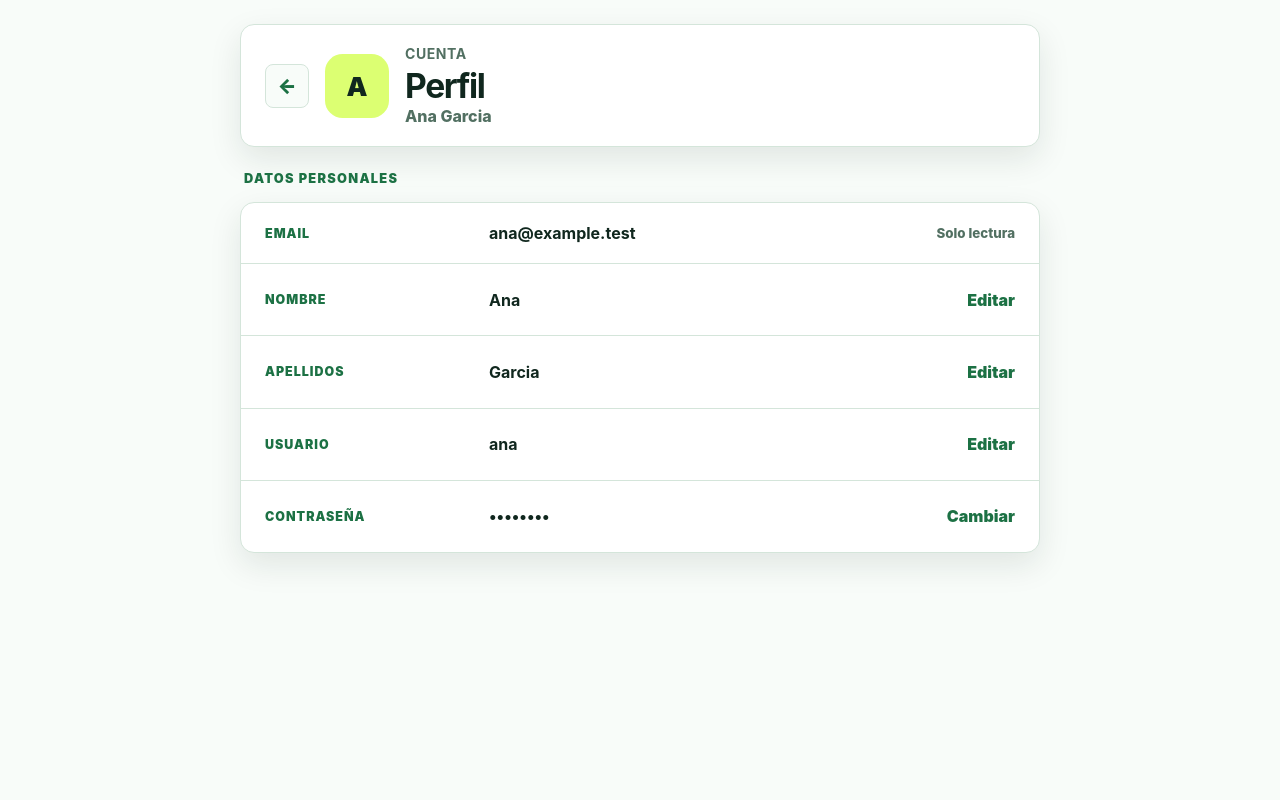
Test: ProfilePage › changes the password only when both new values match
Click the button "Cambiar" at (981, 516), box [947, 501, 1015, 532]
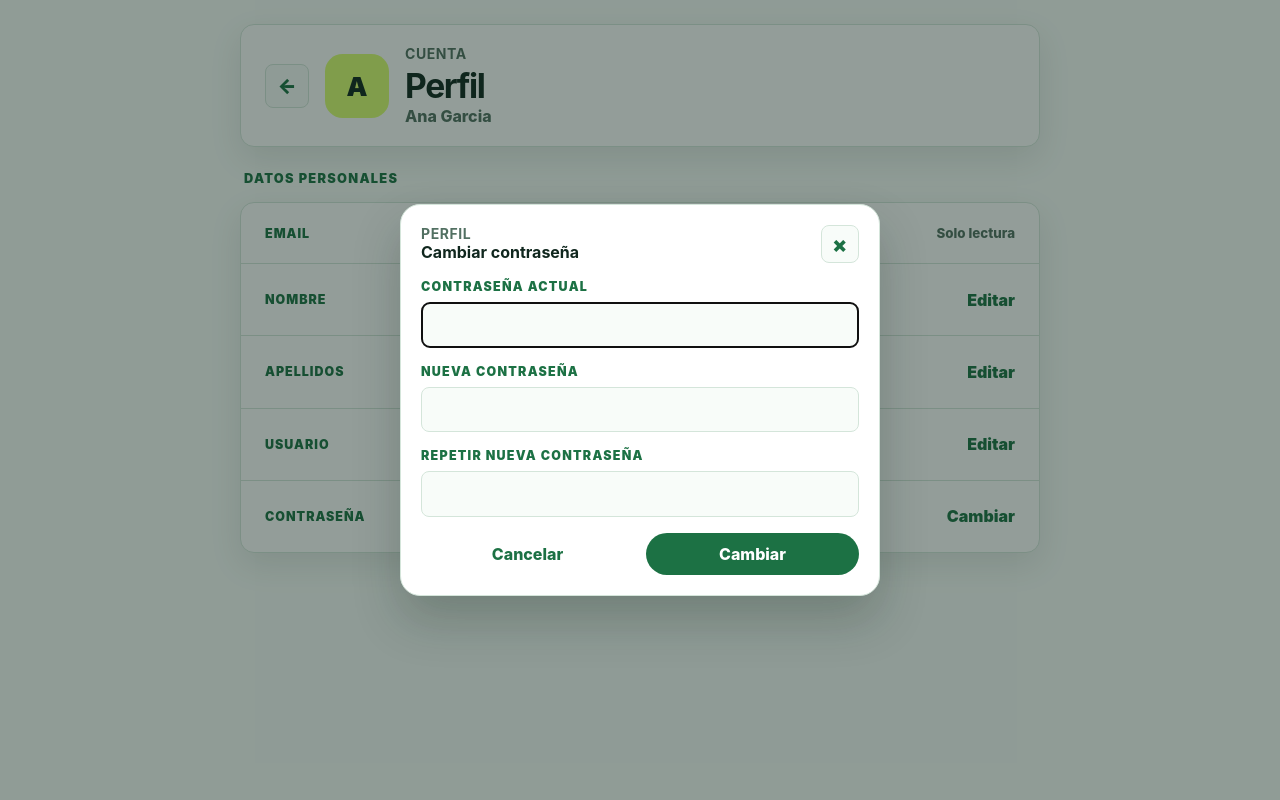
Type "old-password" into the password field labelled "Contraseña actual" at (640, 325), box [421, 302, 859, 348]
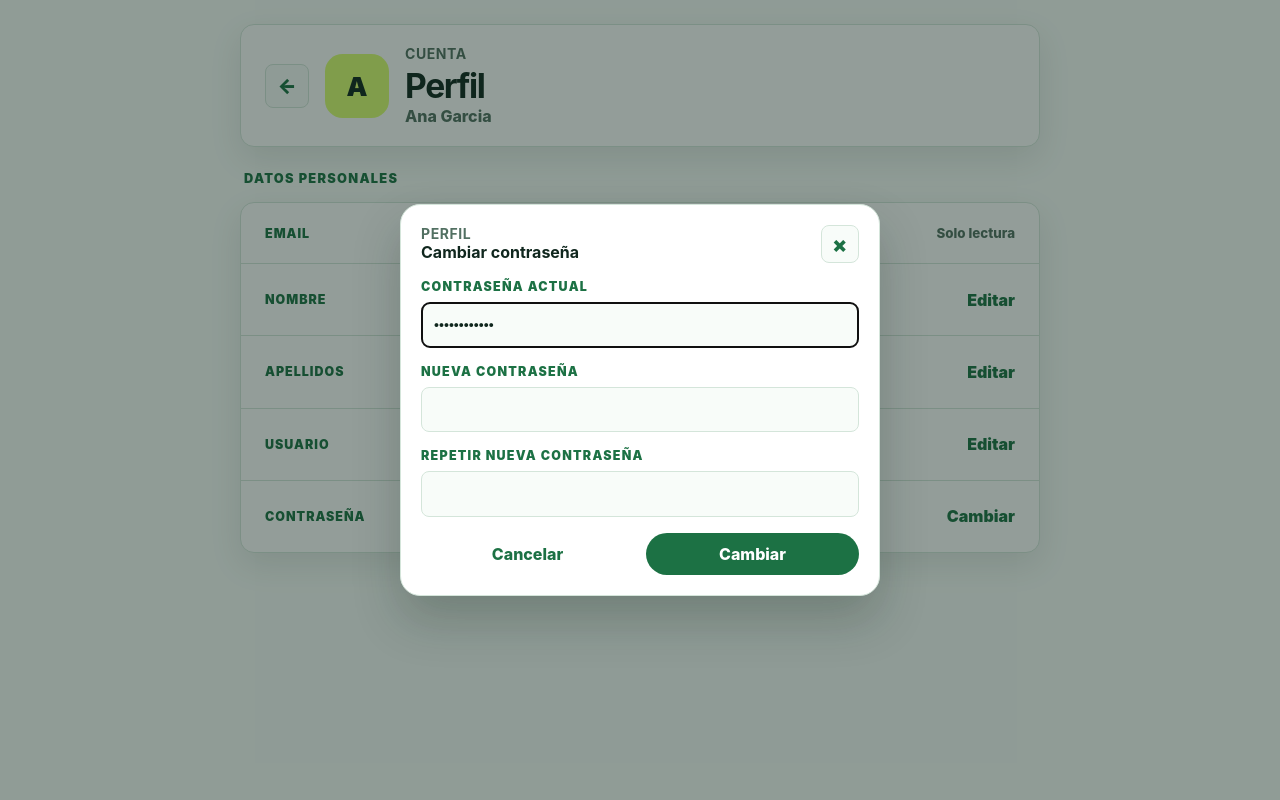
Type "new-password" into the password field labelled "Nueva contraseña" at (640, 410), box [421, 387, 859, 432]
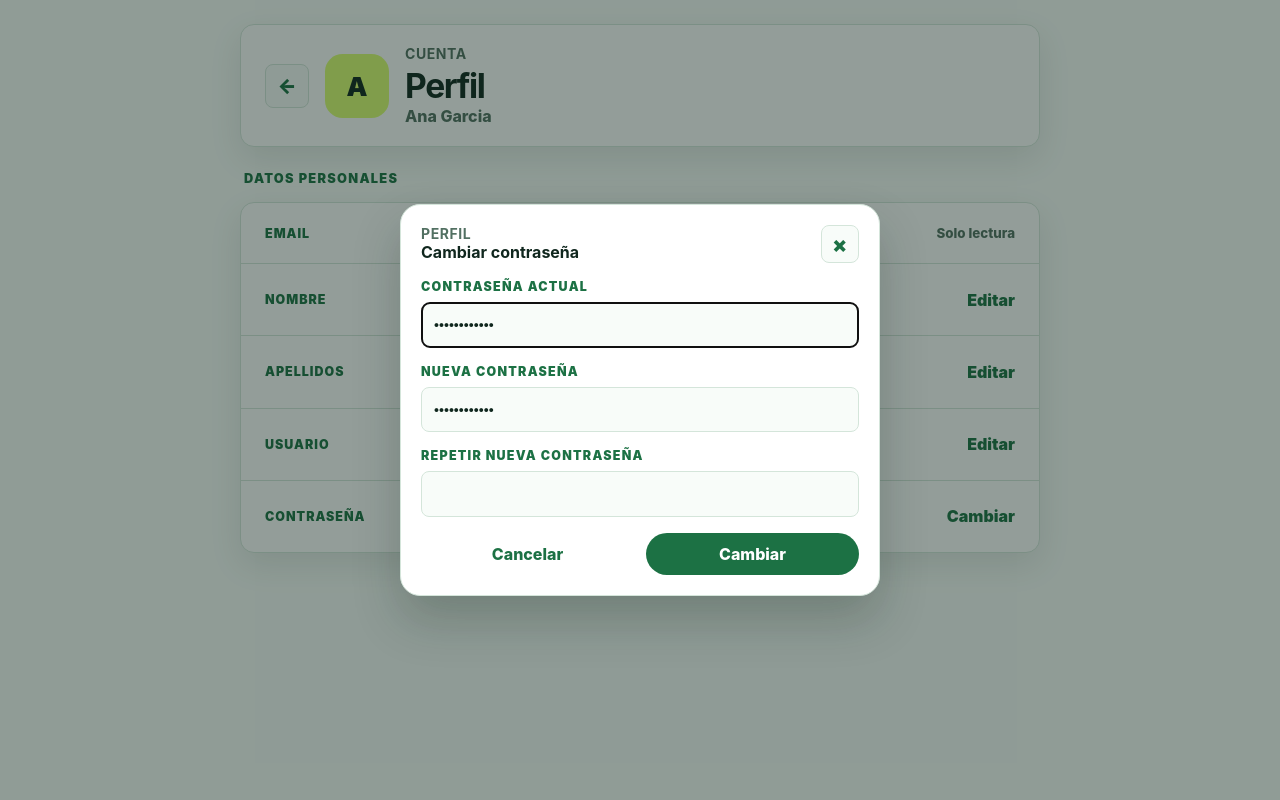
Type "new-password" into the password field labelled "Repetir nueva contraseña" at (640, 494), box [421, 471, 859, 517]
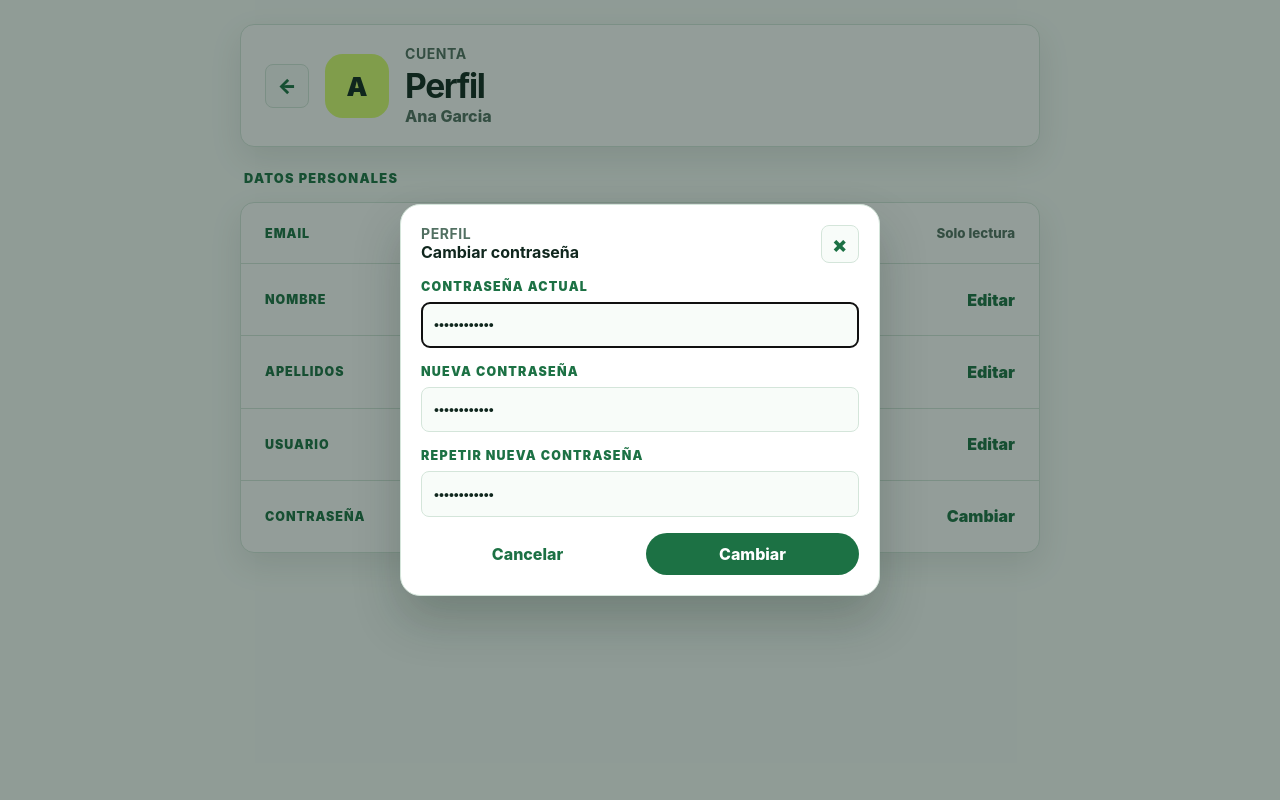
Click the button "Cambiar" at (752, 554), box [646, 533, 859, 575]
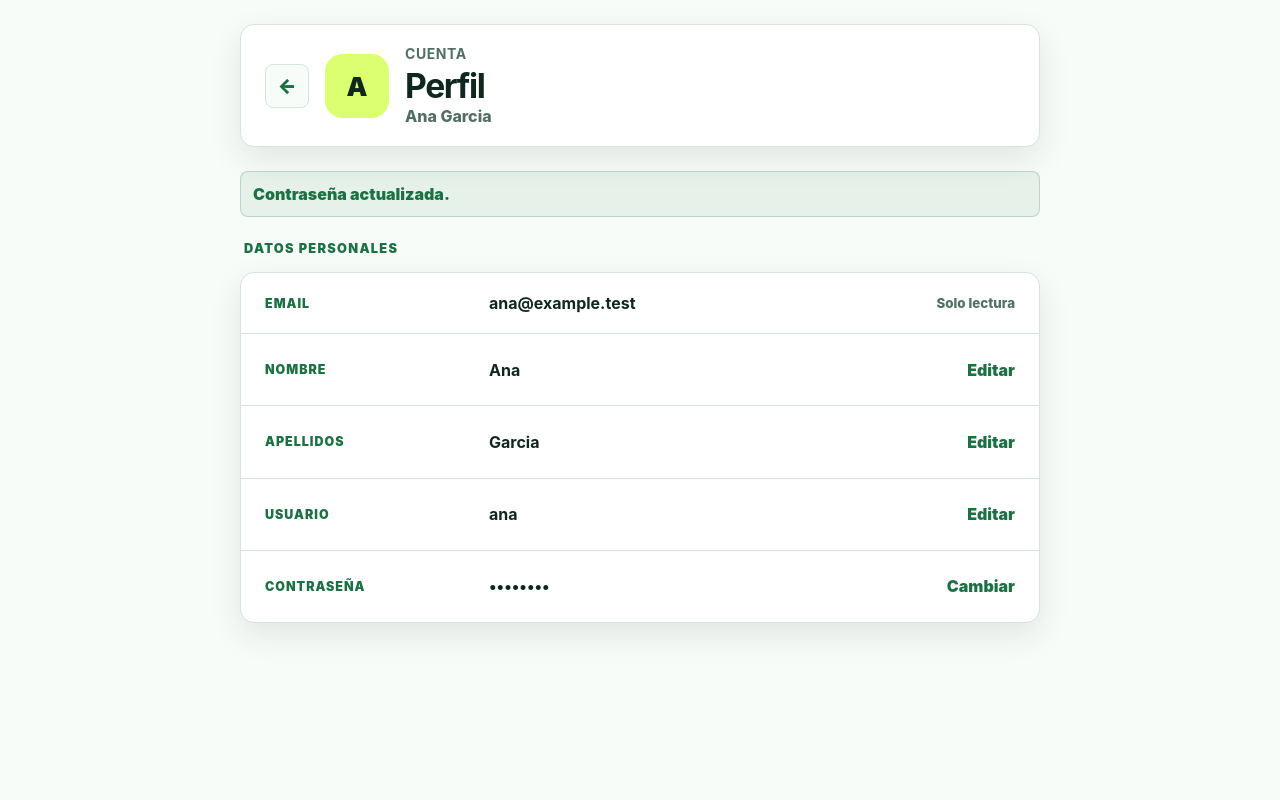
Expected: the text "Contraseña actualizada." is shown, [240, 171, 1040, 217]
